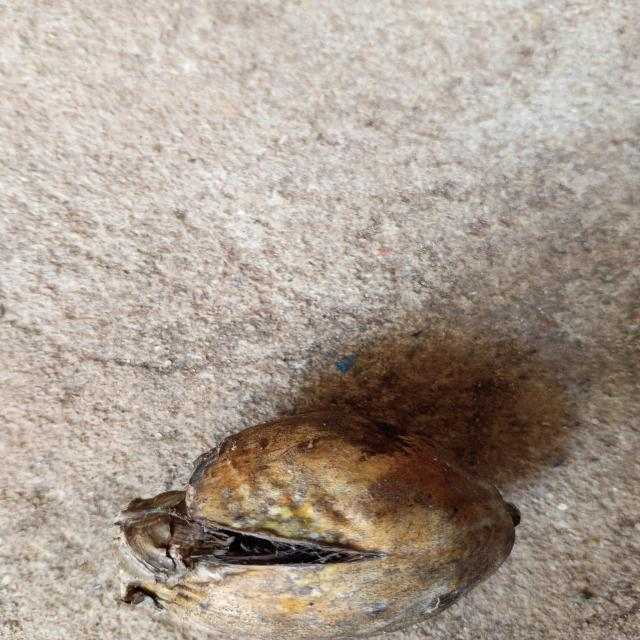damaged: (115, 412, 519, 640)
